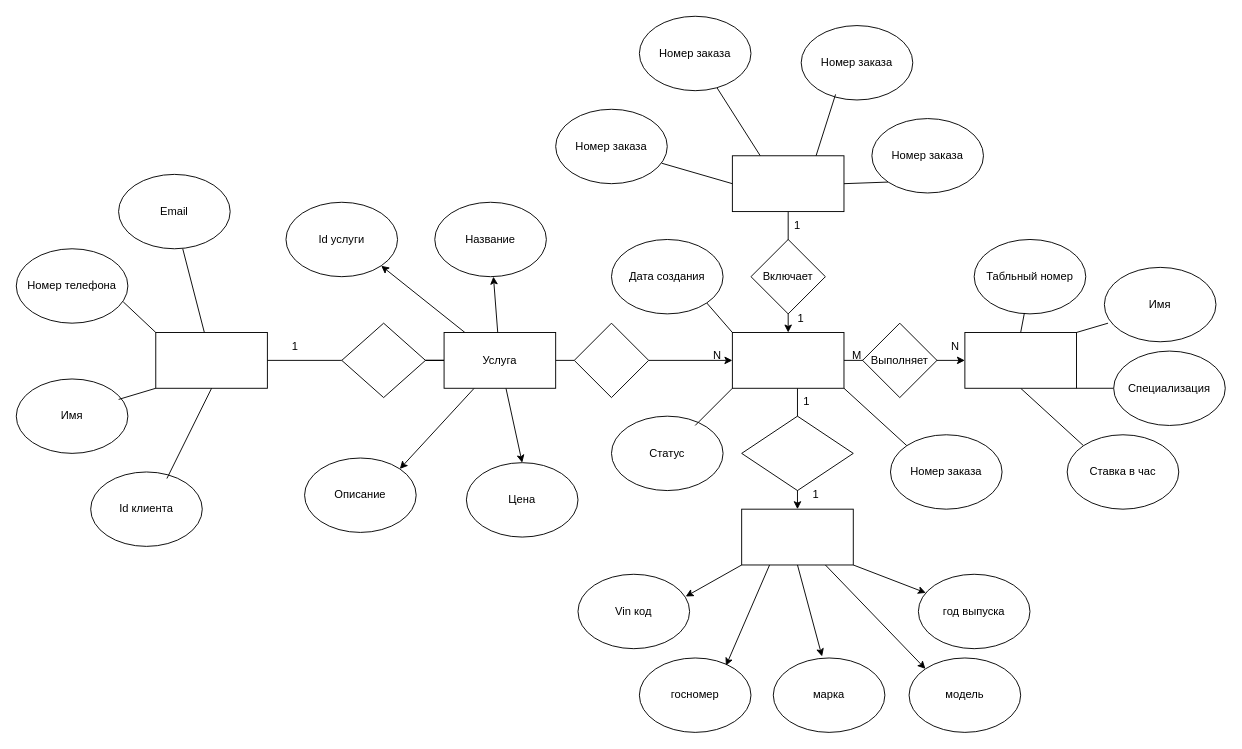
Image size: 1242x749. Some labels were removed from this diagram. The centre of each missing label's shape, as x and y in pixels:
"Автомобиль" belongs at (797,536).
"Выбор услуги" belongs at (383,360).
"Заказ" belongs at (787,360).
"Клиент" belongs at (211,360).
"Механик" belongs at (1020,360).
"Обслуживается" belongs at (797,453).
"Оформляет" belongs at (611,360).
"Счет" belongs at (787,183).
